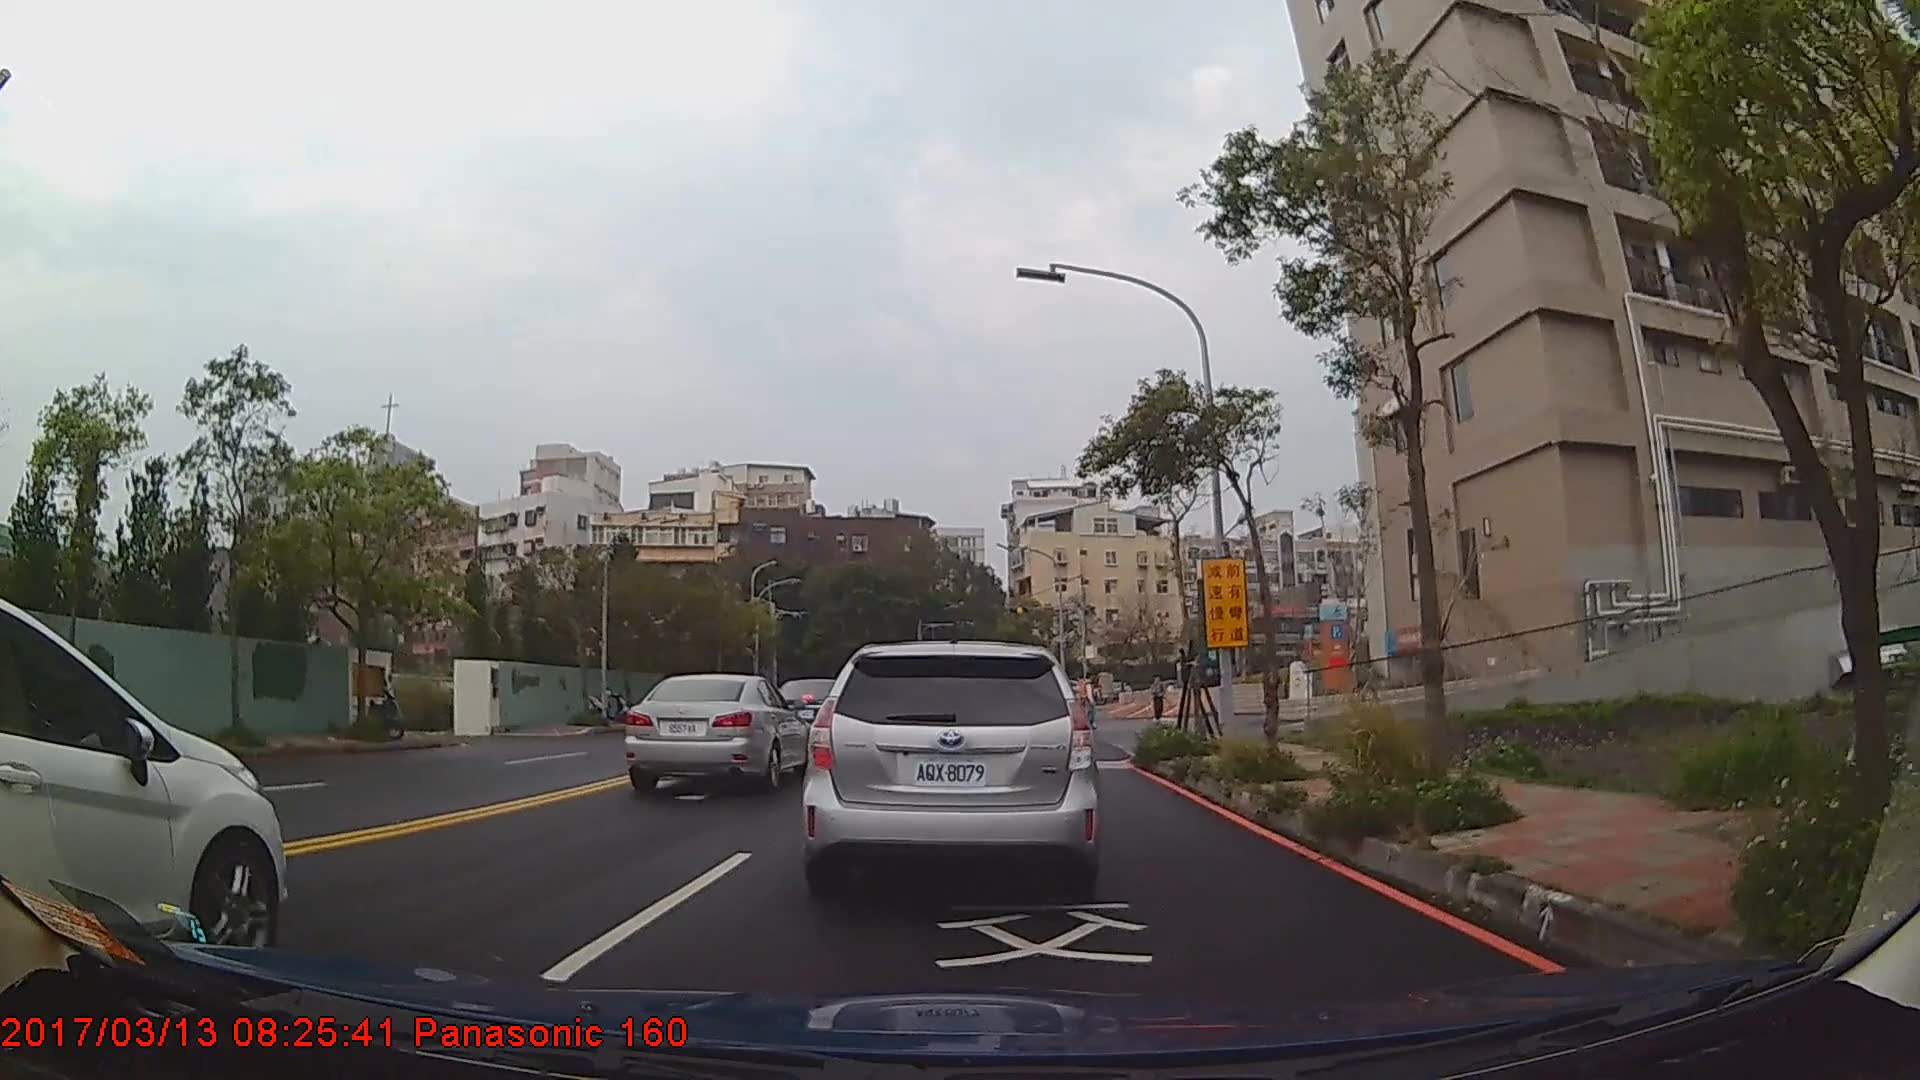pedestrian: (1081, 669, 1103, 734)
vehicle: (0, 597, 287, 964), (802, 635, 1105, 902), (623, 673, 812, 790)
